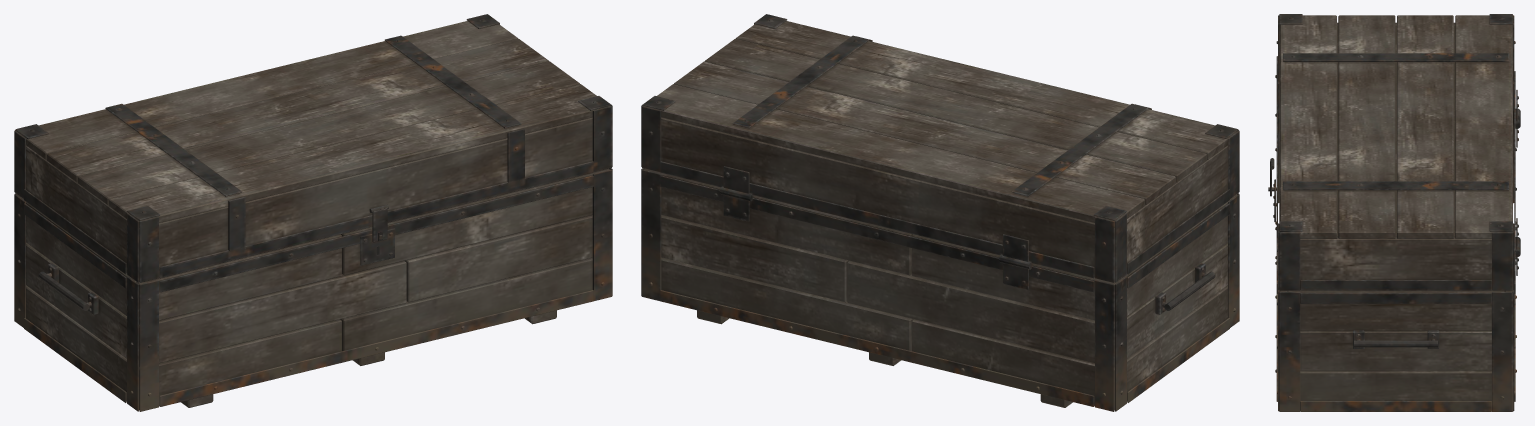
File: loot_chest.glb
3 views of the same model, side by side, from view 1: azimuth 30°, elevation 25°; view 2: azimuth 150°, elevation 25°; view 3: azimuth 270°, elevation 25° (orthographic). The views are drawn at different scales.
Visible parts, largest first — view 1: Lid, Base; view 2: Lid, Base; view 3: Lid, Base.
Boxes of the visible parts, x1=… form: Lid: x1=14, y1=14, x2=612, y2=282; Base: x1=14, y1=168, x2=612, y2=411; Lid: x1=641, y1=14, x2=1239, y2=282; Base: x1=641, y1=168, x2=1239, y2=411; Lid: x1=1270, y1=14, x2=1520, y2=290; Base: x1=1268, y1=81, x2=1518, y2=411.
Bounding box in the file's own units: 2.35 × 0.9174 × 1.08.
1 material, 1 textured.
